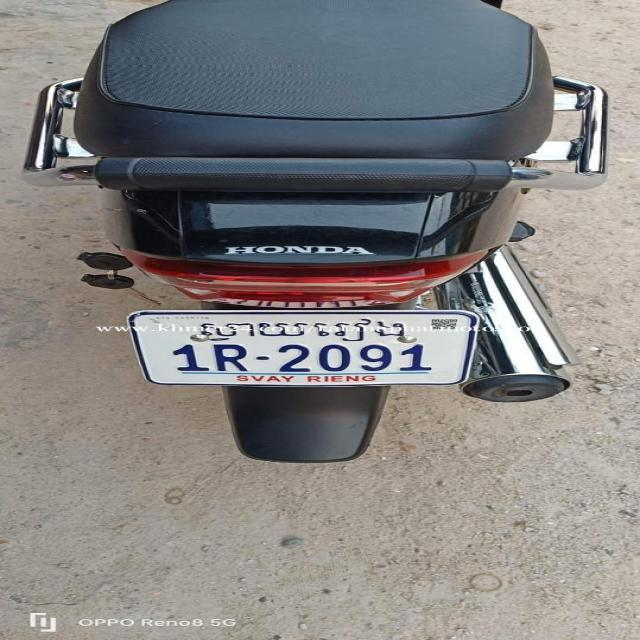Svay_Rieng: (202, 319, 404, 342)
